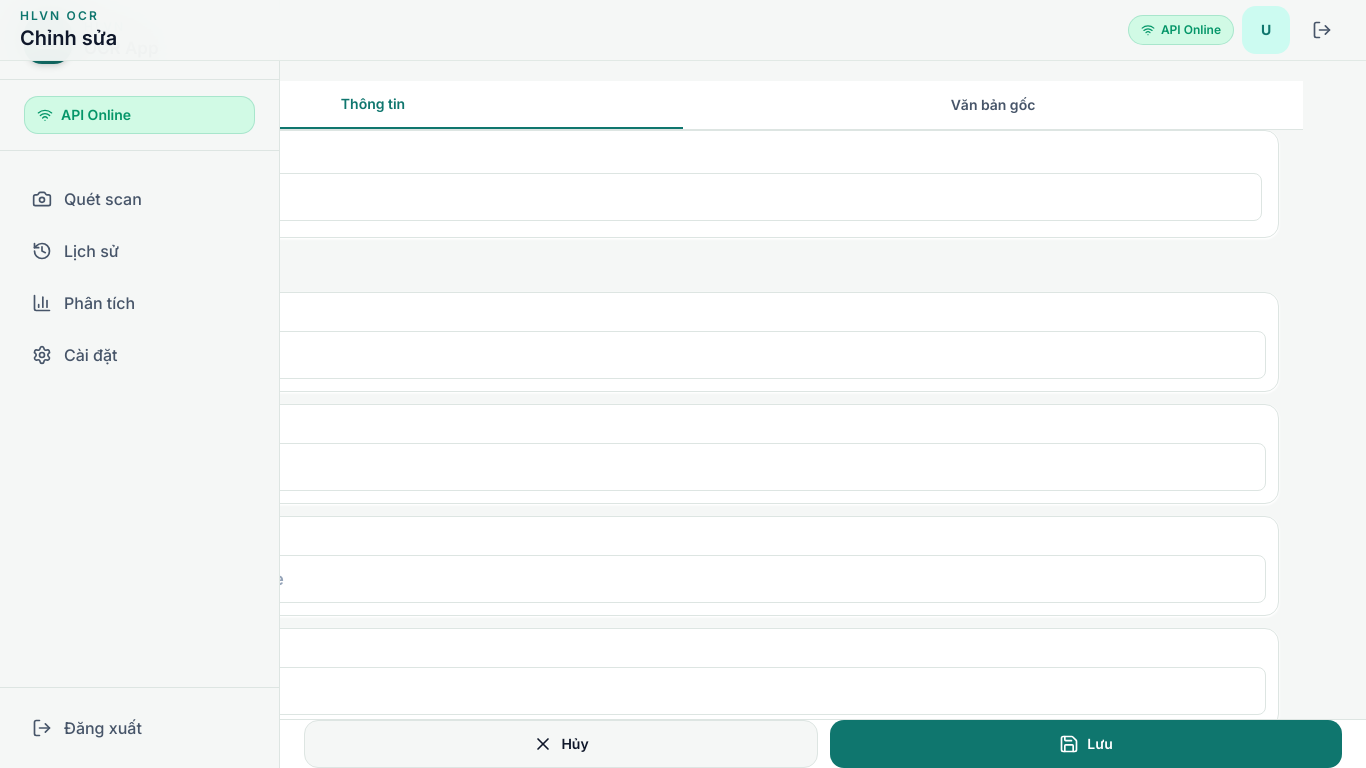
Test: EditPage - save error feedback › disables save button while isSaving is true
What coordinates should you click on to do the following:
click the button "Lưu"
I would click on:
 (1086, 744)
Its box is 830,720 -> 1342,767.
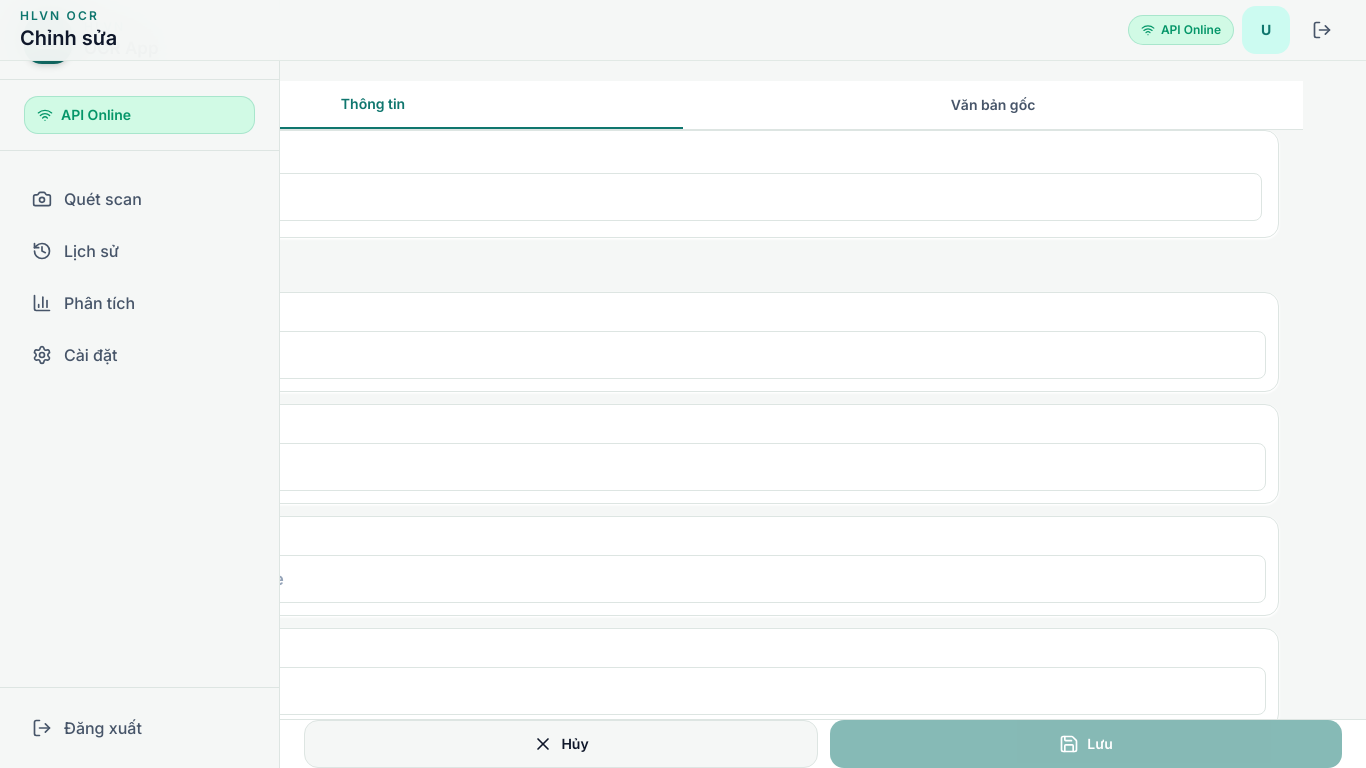
expect the button "Lưu" is disabled: met, box 830,720 -> 1342,767
